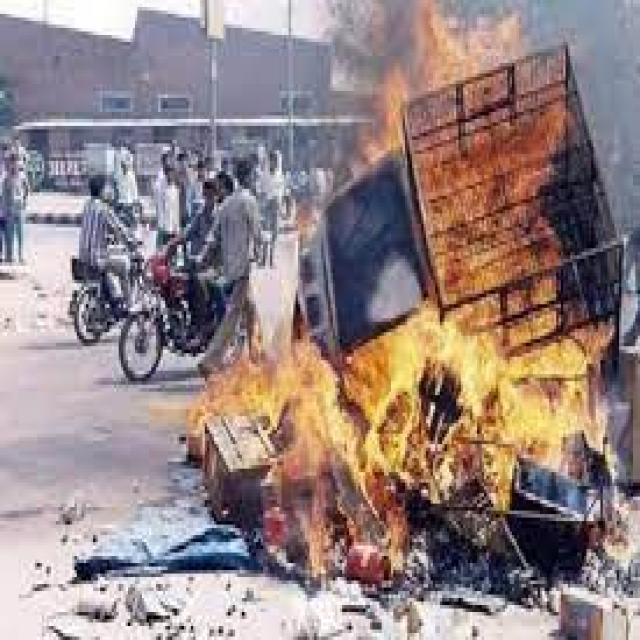Fire: (204, 312, 594, 574), (382, 2, 564, 316)
Smoke: (566, 1, 640, 238), (331, 0, 384, 188)
